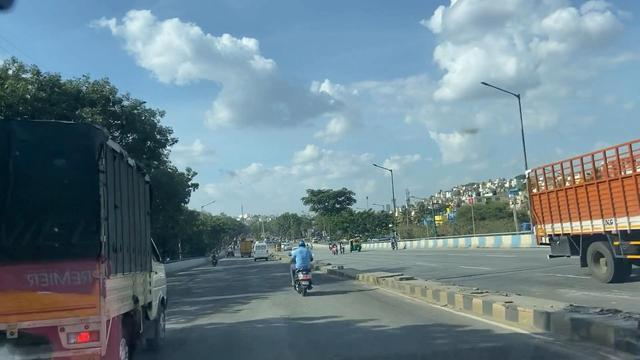HMV: (9, 124, 169, 360)
LMV: (285, 239, 318, 295)
